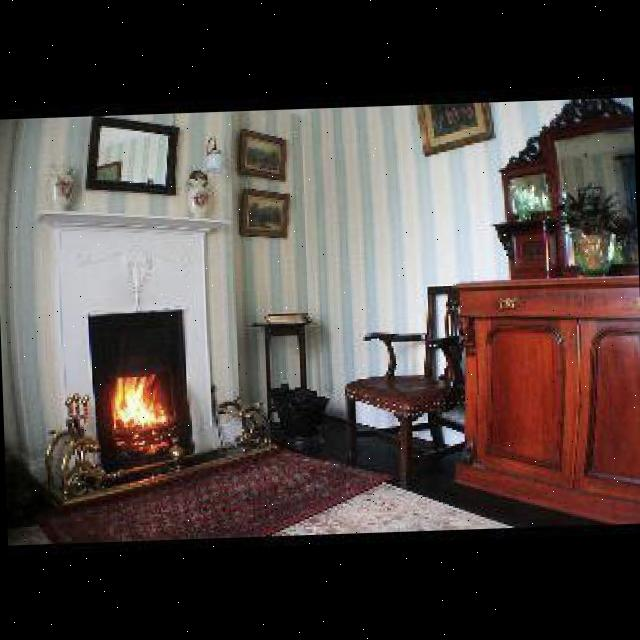fire: (104, 368, 176, 446)
